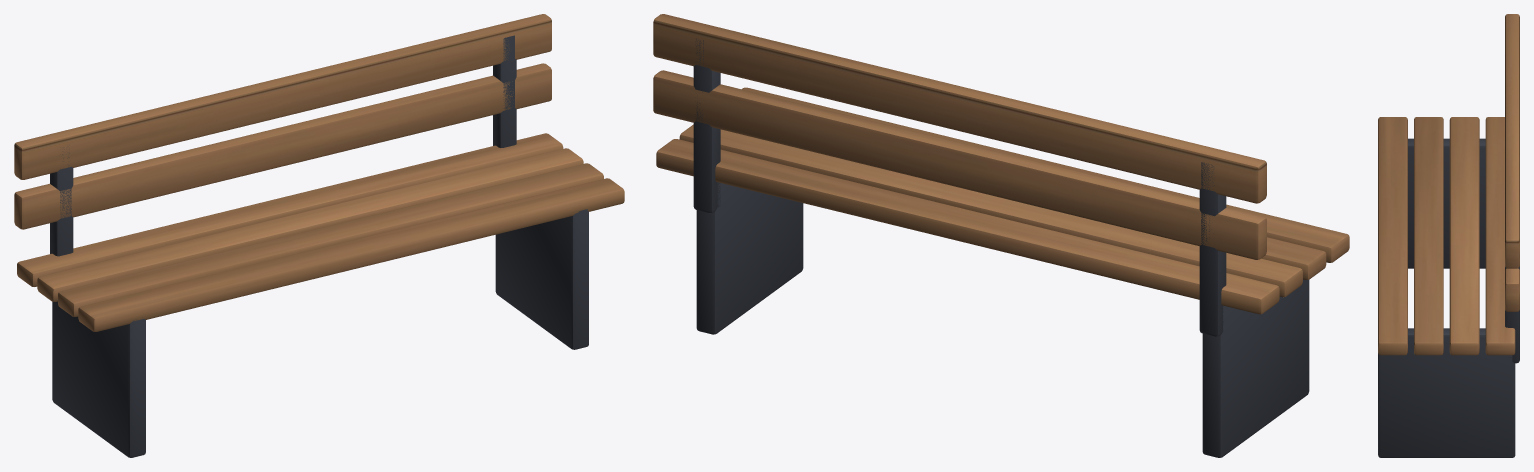
Rendered from bench.glb.
3 renders of one model, left to right at view 1: azimuth 30°, elevation 25°; view 2: azimuth 150°, elevation 25°; view 3: azimuth 270°, elevation 25°, orthographic. The views are drawn at different scales.
Visible parts, largest first — view 1: bench; view 2: bench; view 3: bench.
Part boxes in pixels (bbox=[...]): bench: bbox=[14, 14, 624, 457]; bench: bbox=[653, 14, 1349, 457]; bench: bbox=[1378, 14, 1519, 457].
Bounding box in the file's own units: 1.8 × 0.865 × 0.475.
2 materials, 2 textured.
